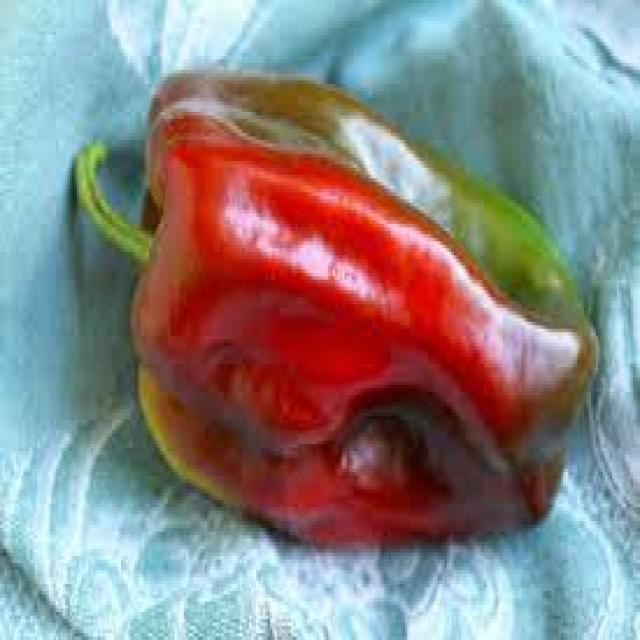Pepper: (121, 69, 600, 552)
